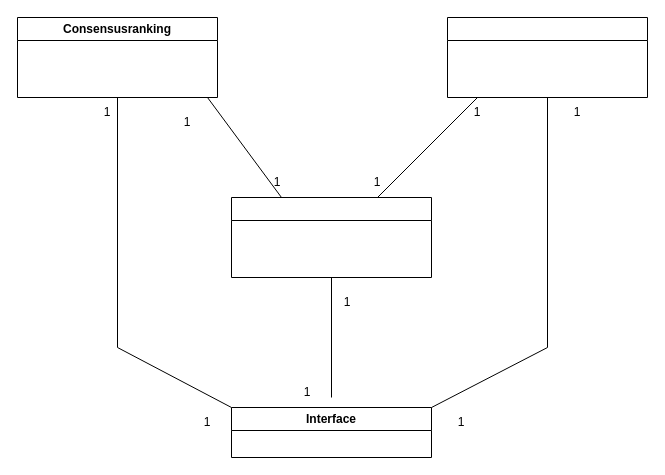
The diagram is 665 pixels wide and 475 high, and some of its shapes have lost their labels. Each missing label, with the centre of its shape:
"Draft" belongs at point (331, 237).
"Roster" belongs at point (547, 57).
